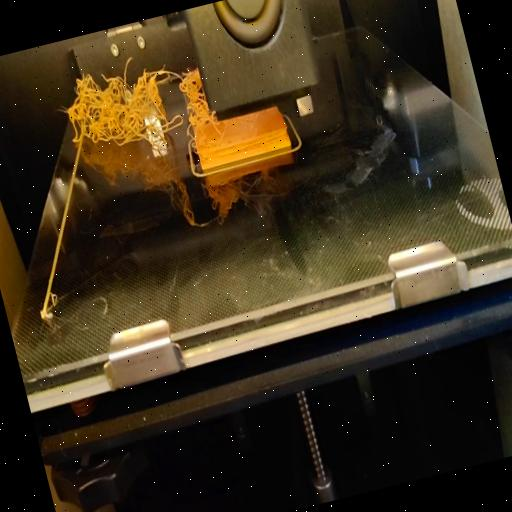spaghetti: (54, 48, 186, 168), (169, 62, 216, 136)
